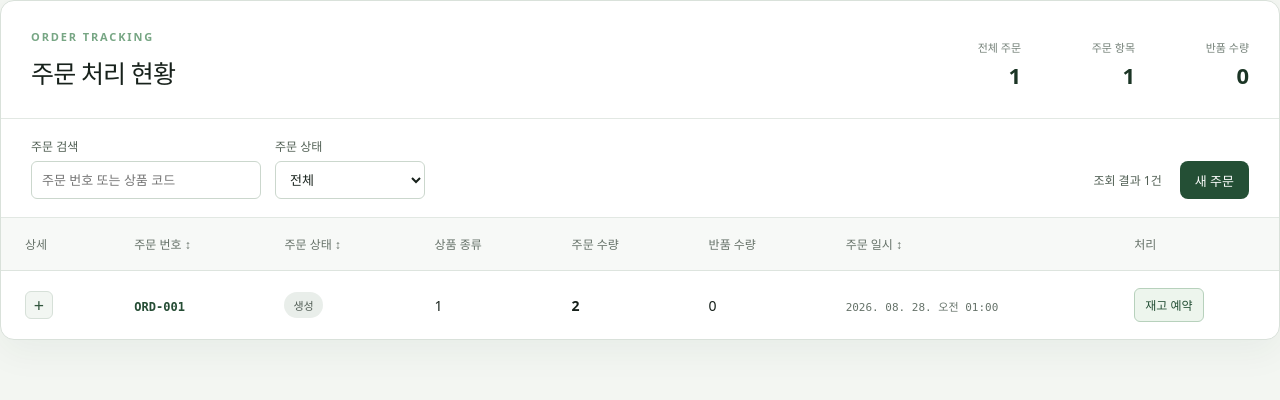
Test: OrderPage › 요청 실패 후 재시도할 때 같은 멱등키를 사용한다
What coordinates should you click on to do the following:
click the button with aria-label "ORD-001 재고 예약"
I would click on:
 (1169, 305)
Its box is [1134, 288, 1204, 322].
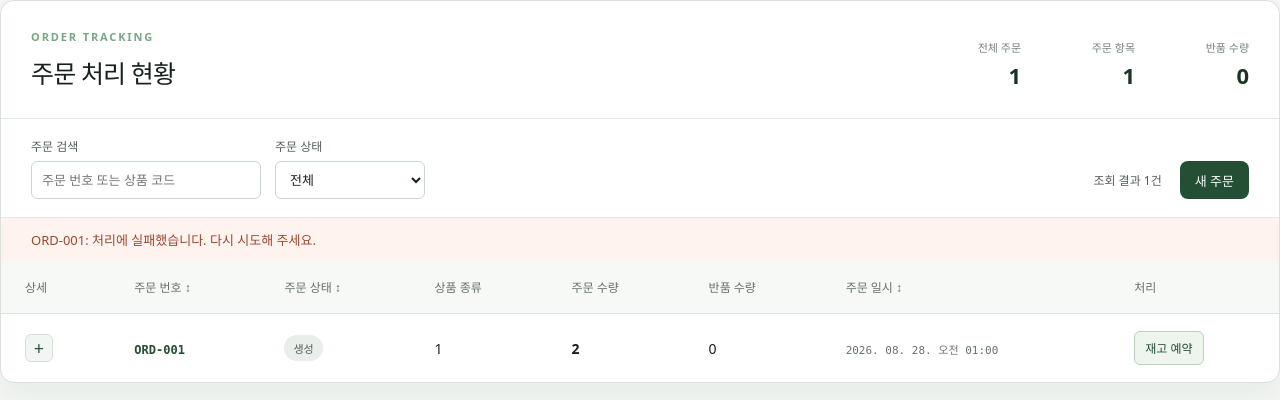
Expected: the message "ORD-001: 처리에 실패했습니다. 다시 시도해 주세요." is shown, [1, 218, 1279, 261]
What coordinates should you click on to do the following:
click the button with aria-label "ORD-001 재고 예약"
I would click on:
 (1169, 348)
Its box is [1134, 331, 1204, 365].
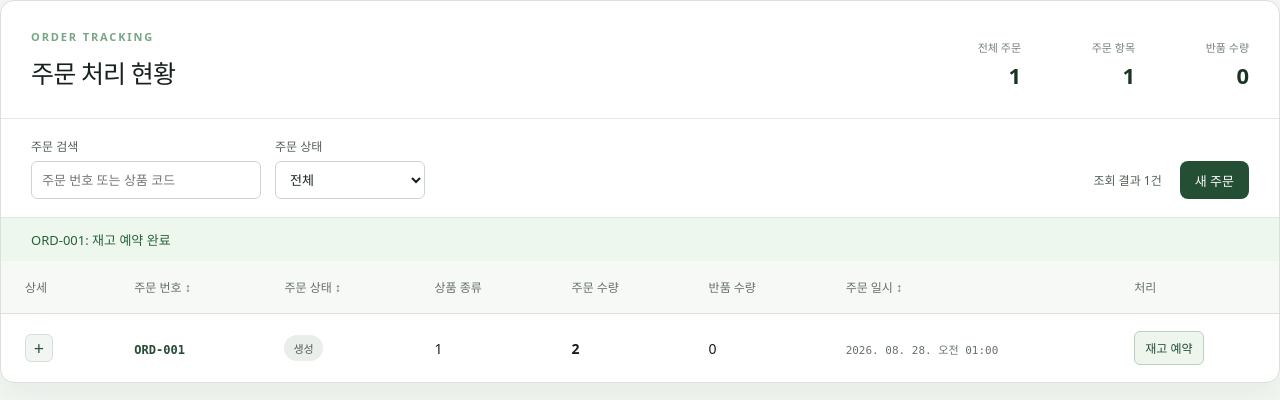
Expected: the text "ORD-001: 재고 예약 완료" is shown, [1, 218, 1279, 261]
